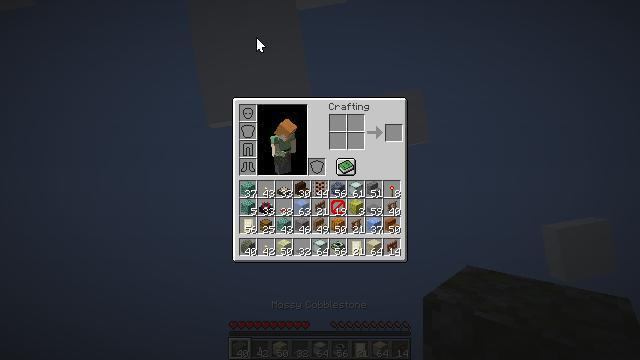cursor: (37, 256, 53, 266)
